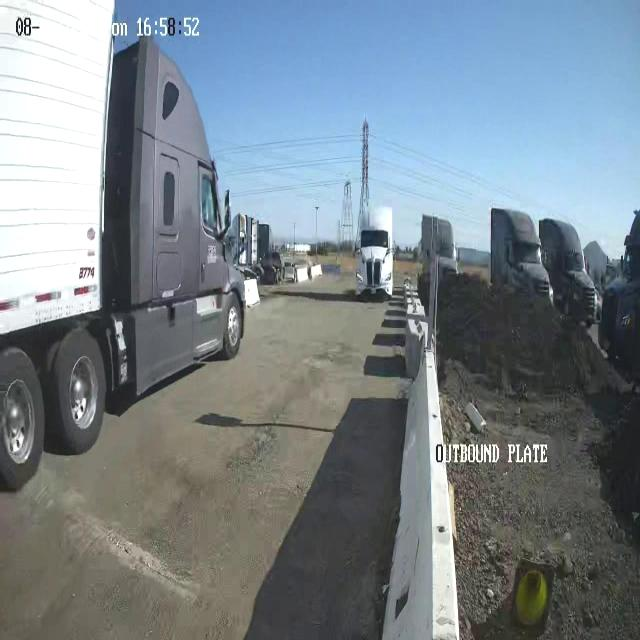CONTAINER: (0, 2, 117, 326)
